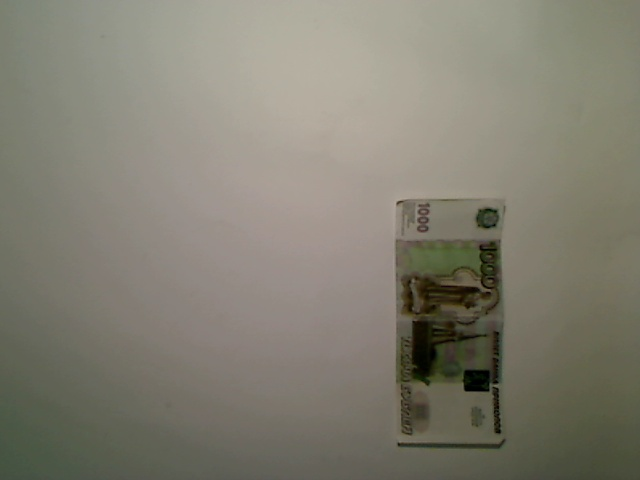banknotes: (388, 193, 510, 454)
